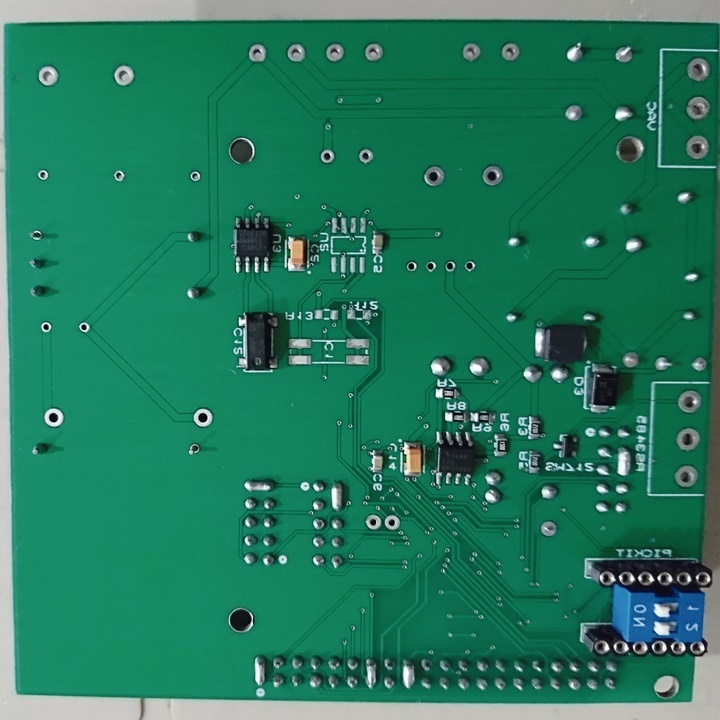F: (682, 54, 713, 84), (684, 131, 711, 165), (683, 94, 712, 123), (670, 462, 699, 489), (675, 387, 701, 417), (674, 425, 701, 452), (41, 406, 66, 432), (421, 163, 446, 189), (36, 63, 60, 90), (111, 63, 137, 87), (499, 41, 522, 66), (457, 42, 483, 64), (537, 515, 559, 541), (245, 42, 270, 64), (613, 43, 636, 66), (191, 406, 213, 430), (285, 41, 307, 64), (361, 41, 384, 63), (481, 164, 502, 188), (324, 42, 345, 64), (564, 100, 582, 125), (653, 352, 674, 372), (622, 350, 640, 372), (690, 354, 708, 375), (382, 515, 401, 534), (27, 224, 45, 244), (183, 440, 201, 459), (357, 148, 375, 166), (364, 514, 381, 533), (319, 147, 335, 166), (39, 318, 54, 336), (443, 258, 457, 277), (404, 259, 419, 276), (76, 320, 91, 336), (188, 169, 202, 186), (463, 259, 477, 276), (423, 258, 436, 275), (36, 169, 49, 183), (113, 168, 124, 184)
P: (239, 474, 280, 498), (400, 653, 419, 695), (328, 476, 347, 514), (251, 649, 269, 689), (615, 446, 634, 482), (363, 654, 379, 692)
